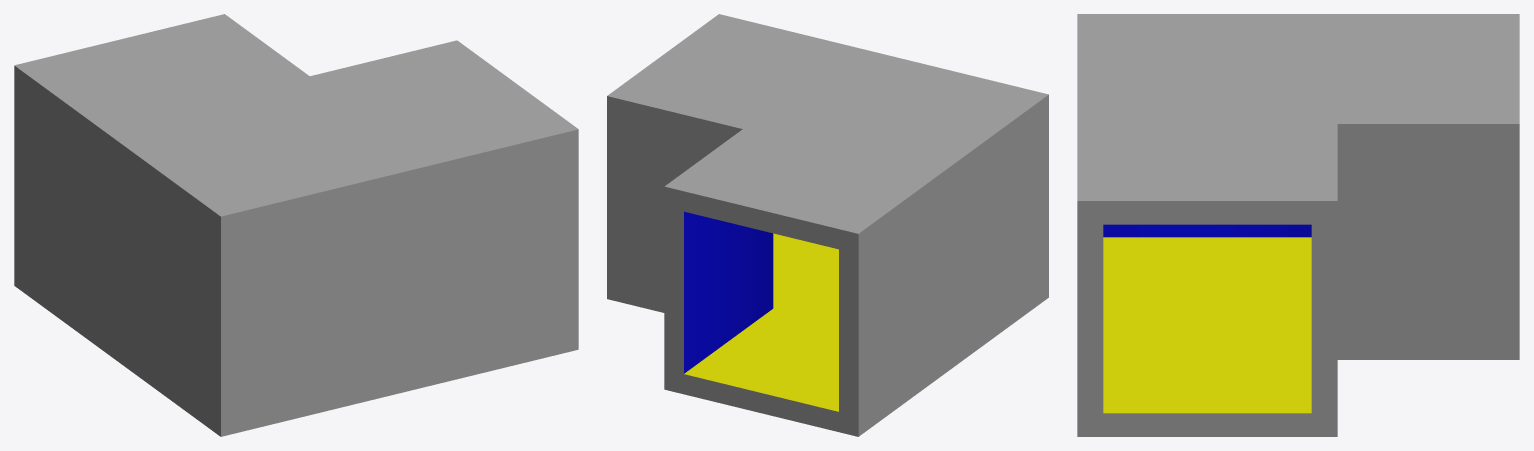
File: Top Left.fbx
3 renders of one model, left to right at view 1: azimuth 30°, elevation 25°; view 2: azimuth 150°, elevation 25°; view 3: azimuth 270°, elevation 25°, orthographic. The views are drawn at different scales.
Parts seen in each view (by area): view 1: Top_Left; view 2: Top_Left; view 3: Top_Left.
Part boxes in pixels (x1=…): Top_Left: x1=14, y1=14, x2=578, y2=436; Top_Left: x1=607, y1=14, x2=1048, y2=436; Top_Left: x1=1077, y1=14, x2=1519, y2=436.
Bounding box in the file's own units: 0.085 × 0.05 × 0.085.
